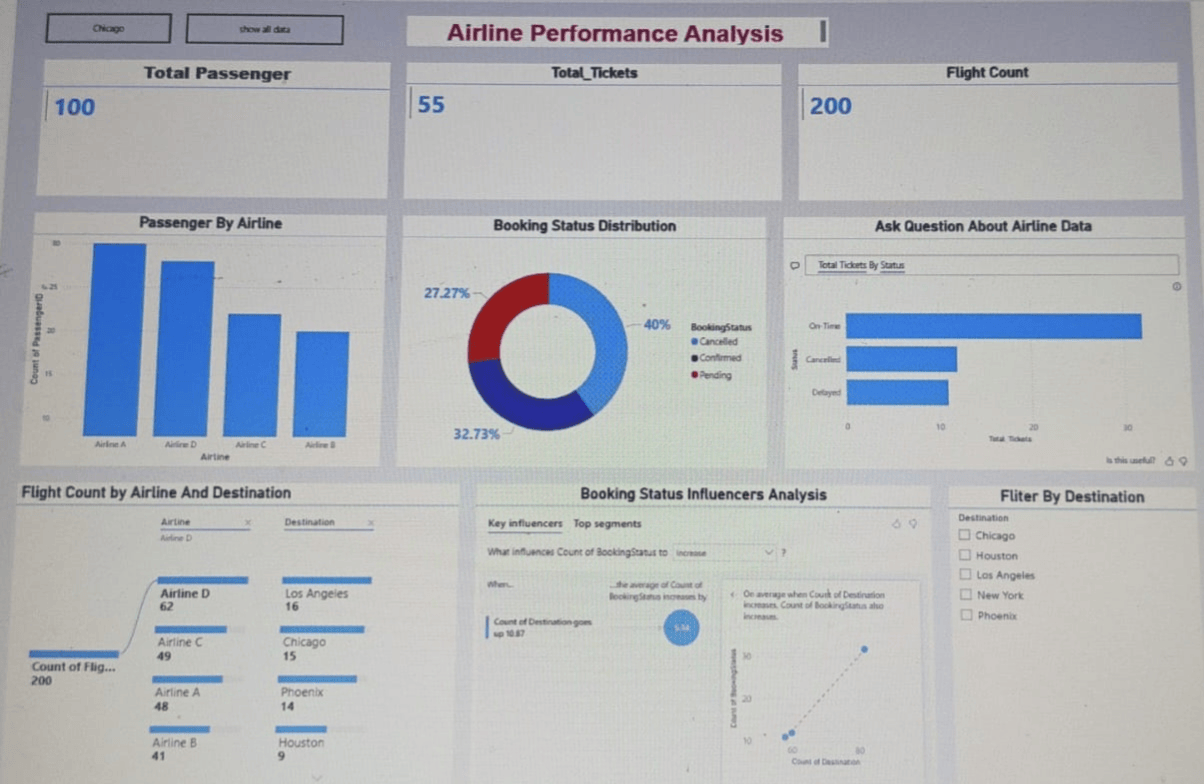

Layout of this report page (visuals, bound fields, positions):
{"tool":"powerbi","page":{"name":"Page 1","canvas":[1800,1200],"ordinal":0},"visuals":[{"type":"multiRowCard","title":"Total Passenger","fields":{"Values":["CountNonNull(passenger information.PassengerID)"]},"box":[48,96,528,216],"z":0},{"type":"multiRowCard","title":"Total_Tickets","fields":{"Values":["CountNonNull(Ticket information.TicketID)"]},"box":[600,96,576,216],"z":1000},{"type":"multiRowCard","title":"Flight Count","fields":{"Values":["Flight Information.FlightID"]},"box":[1200,96,576,216],"z":2000},{"type":"donutChart","title":"Booking Status Distribution","fields":{"Y":["CountNonNull(Ticket information.TicketID)"],"Category":["Ticket information.BookingStatus"]},"box":[600,336,552,384],"z":3000},{"type":"columnChart","title":"Passenger By Airline","fields":{"Category":["Flight Information.Airline"],"Y":["CountNonNull(passenger information.PassengerID)"]},"box":[48,336,528,384],"z":4000},{"type":"decompositionTreeVisual","title":"Flight Count by Airline And Destination","fields":{"Analyze":["CountNonNull(Flight Information.FlightID)"],"ExplainBy":["Flight Information.Airline","Flight Information.Destination"]},"box":[48,744,648,456],"z":5000},{"type":"keyDriversVisual","title":"Booking Status Influencers Analysis","fields":{"Target":["Ticket information.BookingStatus"],"ExplainBy":["Flight Information.Airline","Flight Information.Destination","Flight Information.Status_Type"]},"box":[720,744,672,456],"z":6000},{"type":"qnaVisual","title":"Ask Question About Airline Data","box":[1176,336,600,384],"z":7000},{"type":"slicer","title":"Fliter By Destination","fields":{"Values":["Flight Information.Destination"]},"box":[1416,744,360,456],"z":8000},{"type":"actionButton","box":[48,24,192,48],"z":9000},{"type":"actionButton","box":[264,24,240,48],"z":10000},{"type":"textbox","box":[600,24,648,48],"z":11000}]}

Visuals, with their boxes in screenshot pixels (x1, y1, x2, y2), scaled from the page's 1800x1200 canvas onto the 1204x784 screenshot:
"Total Passenger" multiRowCard: 32,63,385,204
"Total_Tickets" multiRowCard: 401,63,787,204
"Flight Count" multiRowCard: 803,63,1188,204
"Booking Status Distribution" donutChart: 401,220,771,470
"Passenger By Airline" columnChart: 32,220,385,470
"Flight Count by Airline And Destination" decompositionTreeVisual: 32,486,466,783
"Booking Status Influencers Analysis" keyDriversVisual: 482,486,931,783
"Ask Question About Airline Data" qnaVisual: 787,220,1188,470
"Fliter By Destination" slicer: 947,486,1188,783
actionButton: 32,16,161,47
actionButton: 177,16,337,47
textbox: 401,16,835,47
